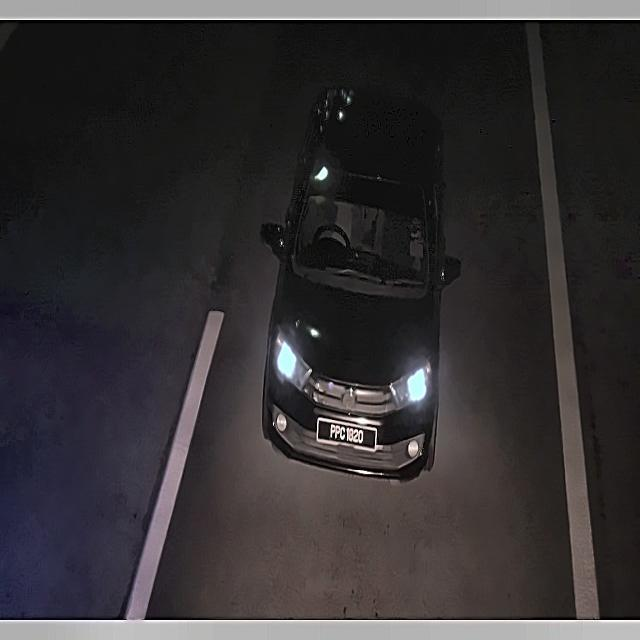car: (314, 414, 378, 458)
